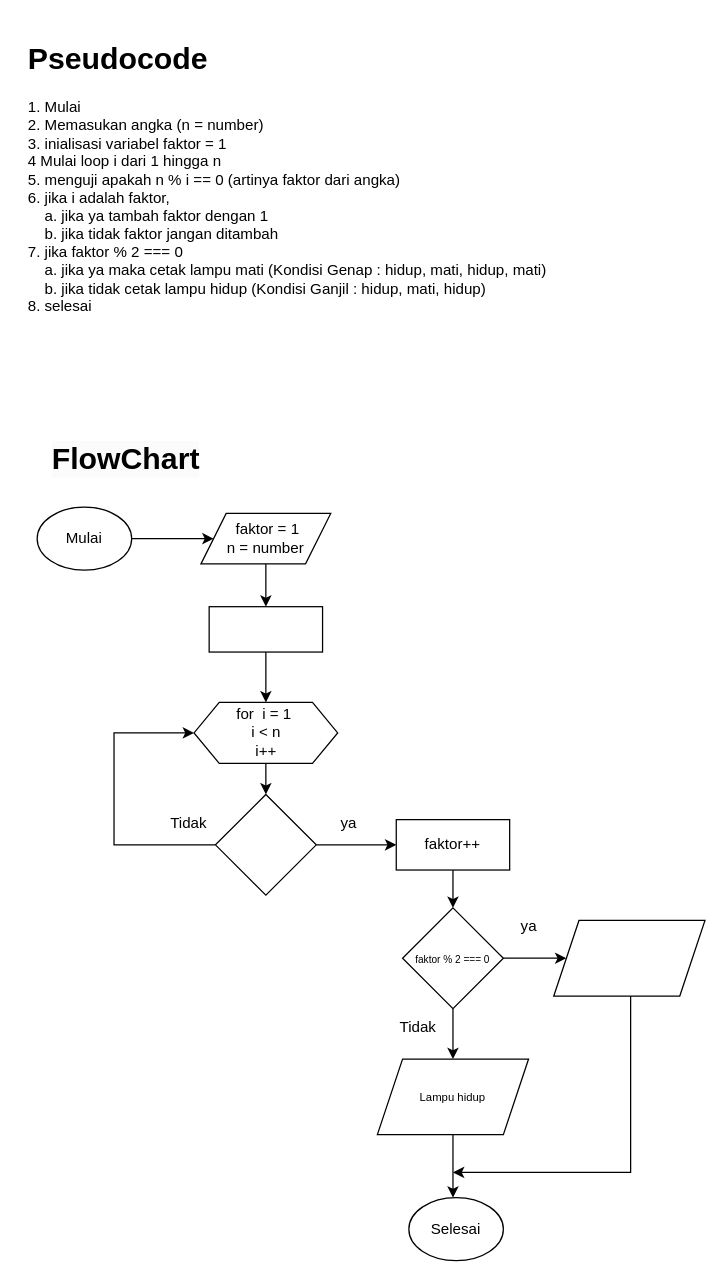
Some shapes in this 727 by 1283 pixel diagram are drawn without their labels. The centre of each missing label's shape, as x and y in pixels:
"Lampu mati" goes at (x=629, y=957).
"let faktor = 1" goes at (x=265, y=628).
"n % i === 0" goes at (x=265, y=844).
